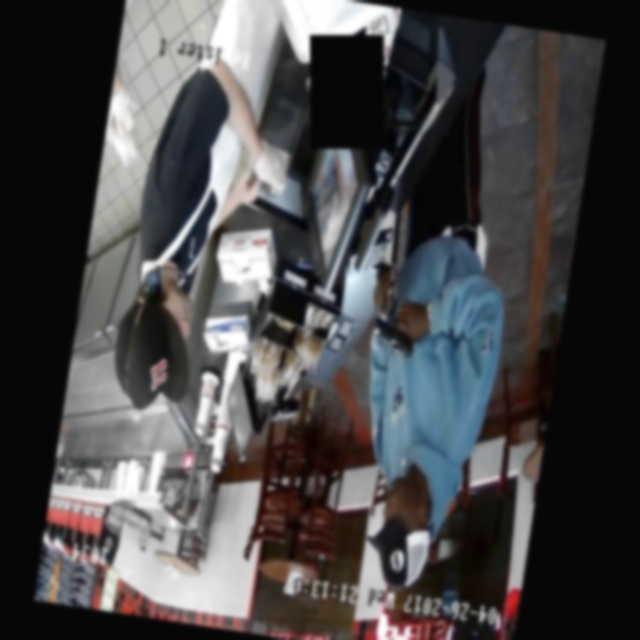gun: (356, 290, 436, 375)
